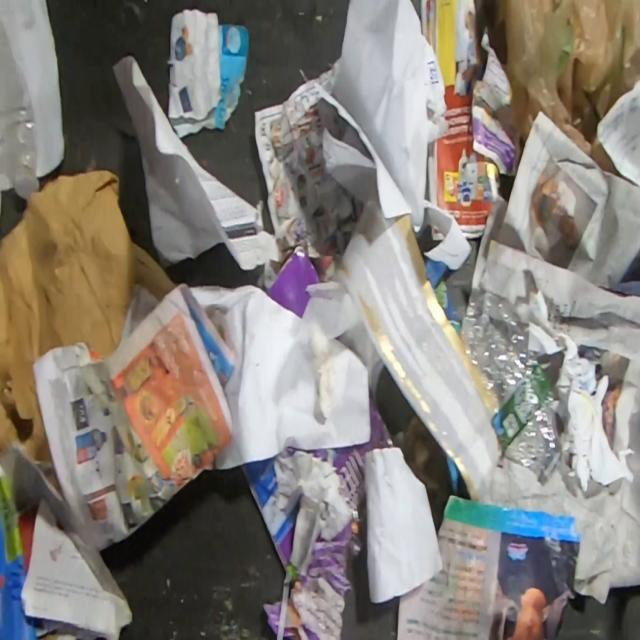cardboard: (302, 385, 394, 566), (238, 454, 302, 570), (266, 244, 322, 323)
rigid_plastic: (460, 289, 562, 486), (0, 16, 38, 201)
soft_plastic: (502, 0, 640, 185)
